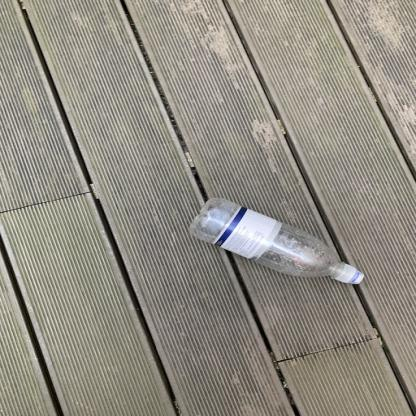trash: (186, 196, 366, 286)
